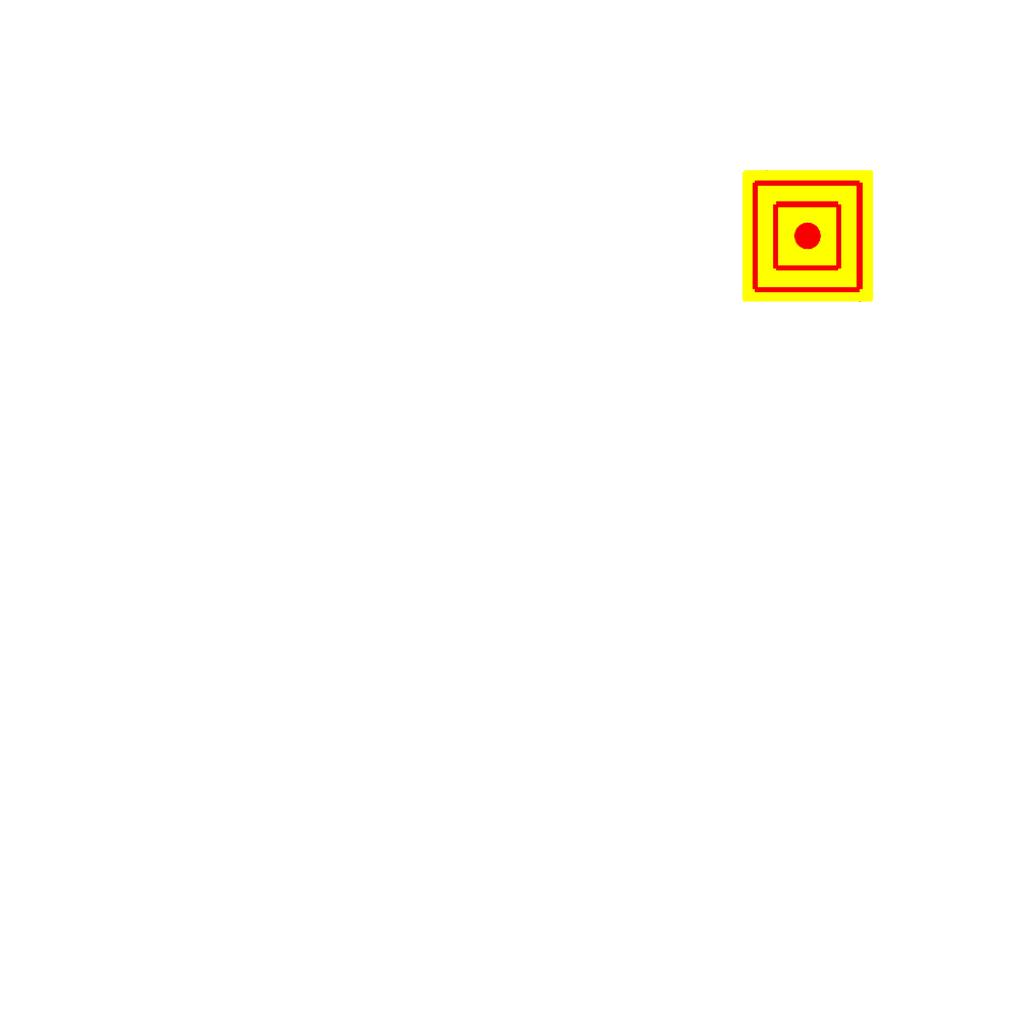NAM-Nichtautomatischer_Melder: (742, 170, 874, 302)
